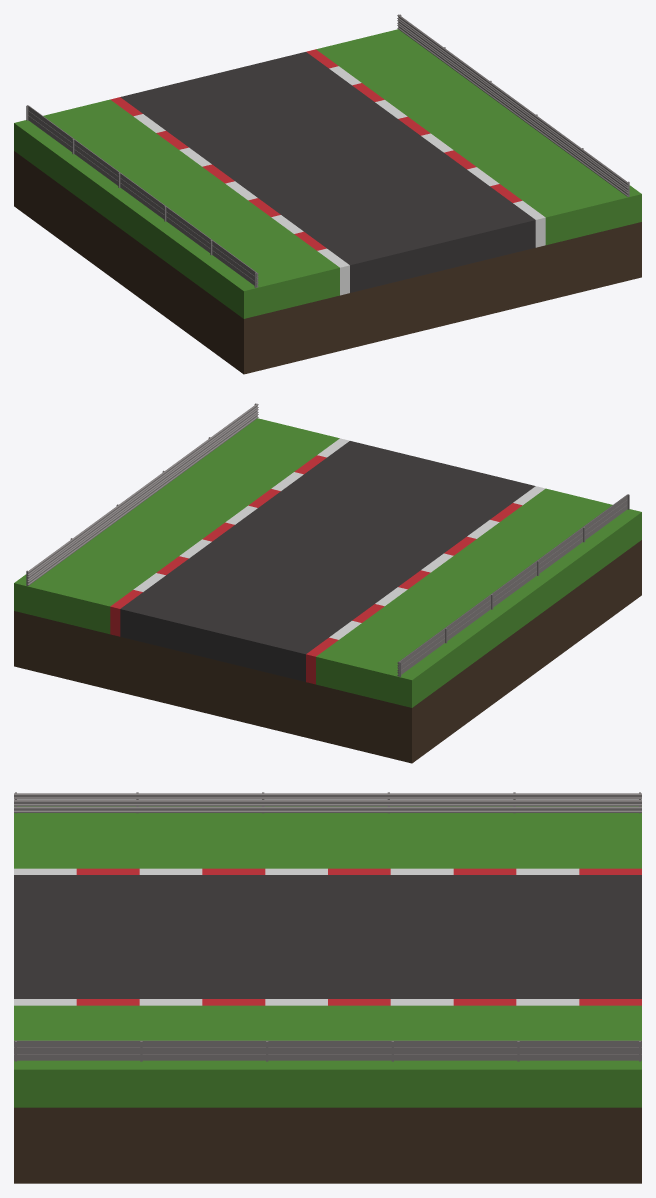
Rendered from tiles_tile-race-track-straight-curbs.fbx.
3 renders of one model, top to bottom at view 1: azimuth 30°, elevation 25°; view 2: azimuth 150°, elevation 25°; view 3: azimuth 270°, elevation 25°, orthographic. The views are drawn at different scales.
Visible parts, largest first — view 1: tiles_tile_race_track_straight_curbs; view 2: tiles_tile_race_track_straight_curbs; view 3: tiles_tile_race_track_straight_curbs.
Boxes of the visible parts, x1,y1,x2,y2 form: tiles_tile_race_track_straight_curbs: [14, 14, 641, 374]; tiles_tile_race_track_straight_curbs: [14, 403, 641, 763]; tiles_tile_race_track_straight_curbs: [14, 792, 641, 1183].
Bounding box in the file's own units: 200 × 47 × 200.
